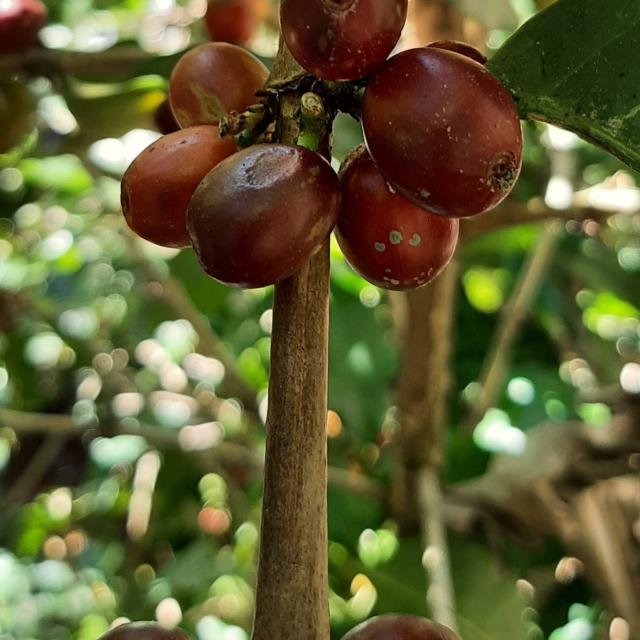red: (362, 46, 523, 217), (186, 143, 341, 288), (335, 145, 459, 291), (280, 0, 408, 80)
yellow: (120, 124, 237, 248), (168, 42, 269, 127)
